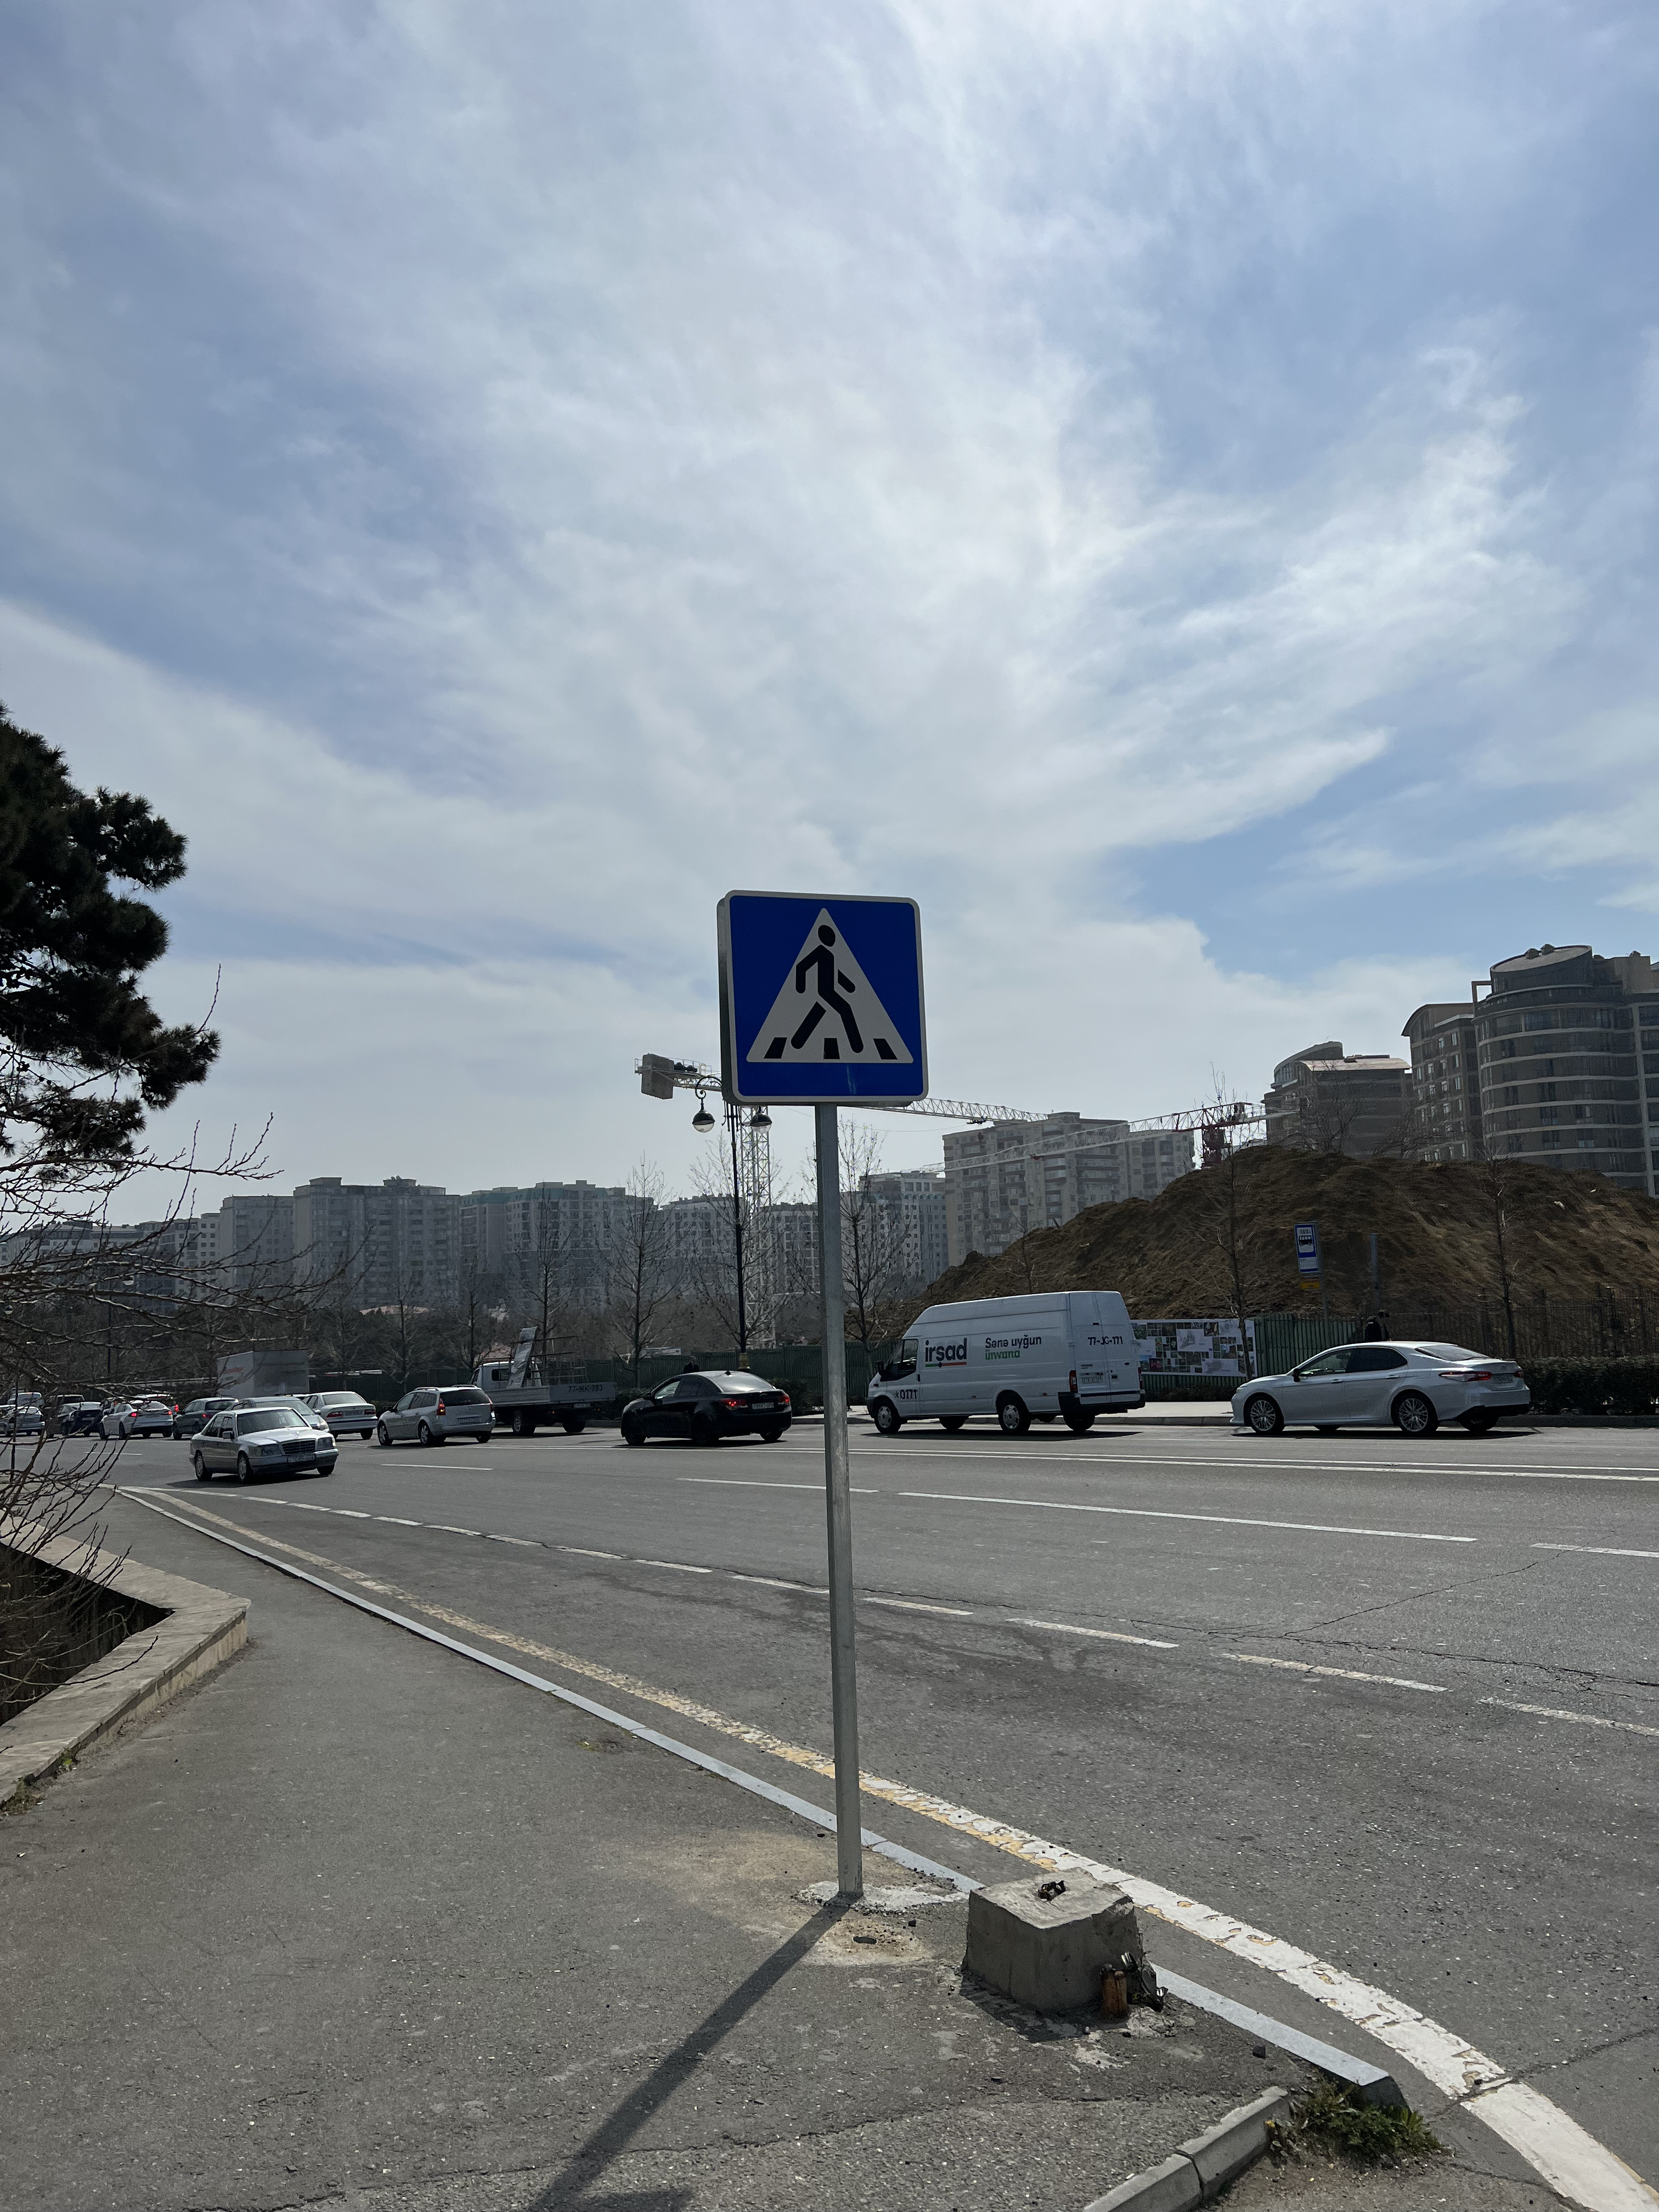Pedestrian Crossing: (720, 890, 927, 1103)
